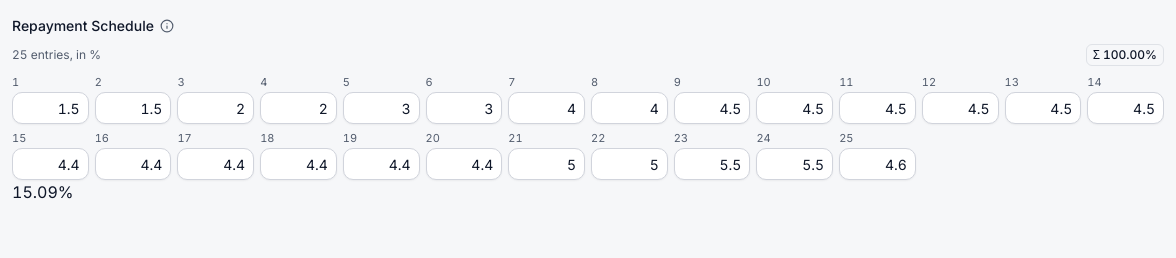
Test case: Field › edits list entries in place and shows the live sum
Expected: the text "Σ 100.00%" is shown, [1086,44,1164,66]
Replace the text in the field named "Repayment Schedule entry 1" with "2.5" at (50, 108), box [12,92,89,124]
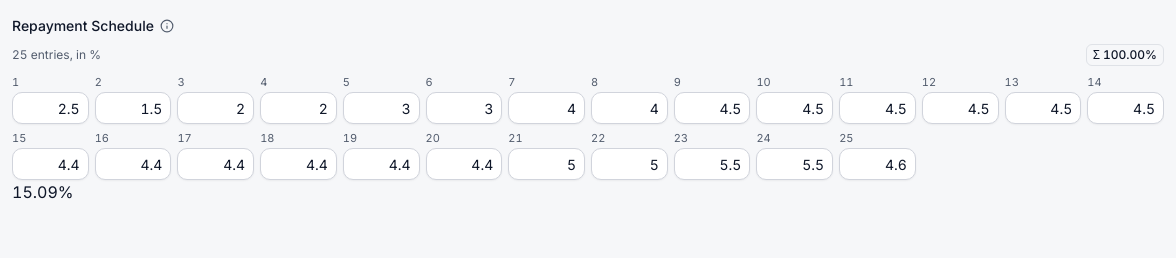
Leave the field named "Repayment Schedule entry 1", box [12,92,89,124]
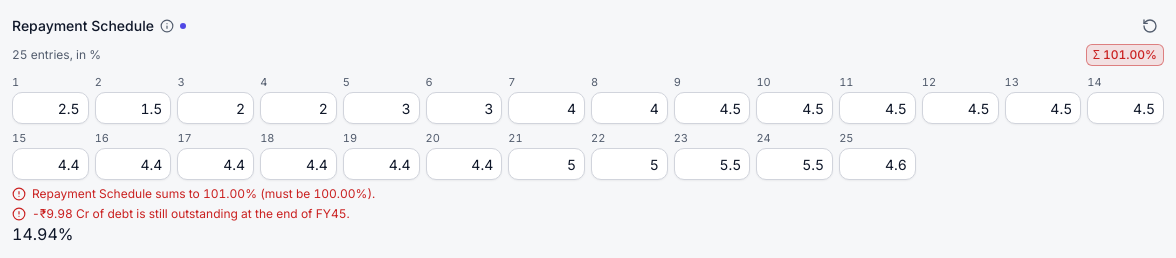
Expected: the text "Σ 101.00%" is shown, [1086,44,1164,66]
